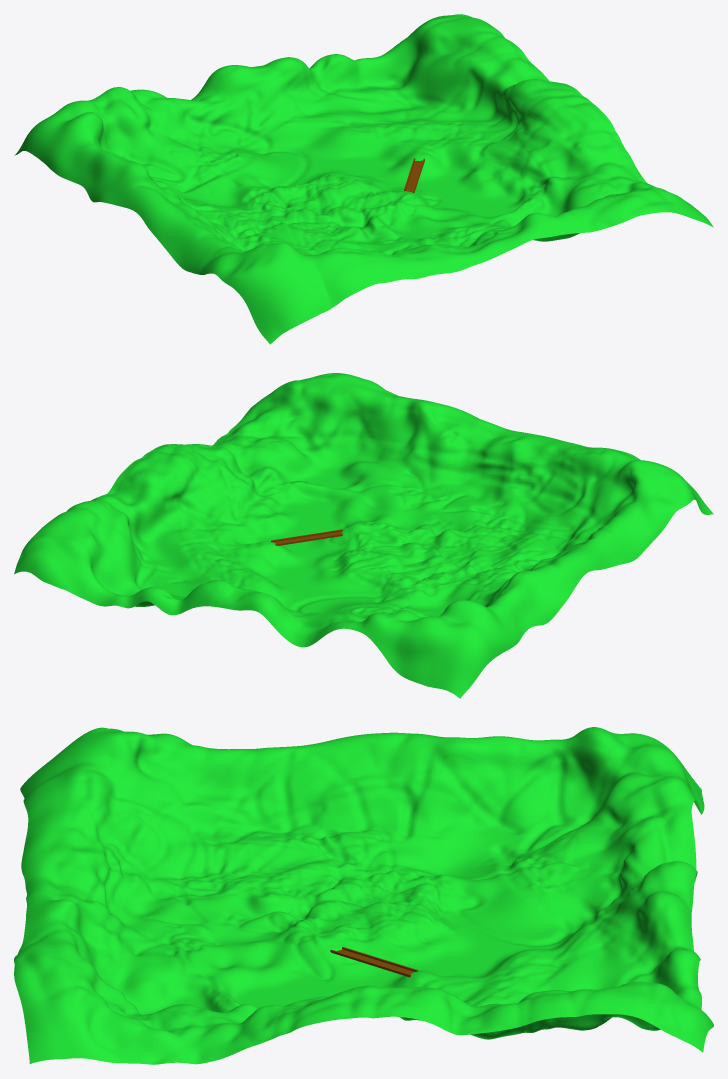
File: terrainbridge.glb
The picture shows the model from 3 angles, top to bottom: view 1: azimuth 30°, elevation 25°; view 2: azimuth 150°, elevation 25°; view 3: azimuth 270°, elevation 25°; orthographic projection. The views are drawn at different scales.
Parts seen in each view (by area): view 1: terrain; view 2: terrain; view 3: terrain, bridge.
Part boxes in pixels (x1,y1,x2,y2): terrain: [14, 14, 713, 344]; terrain: [14, 373, 713, 698]; terrain: [14, 727, 713, 1064]; bridge: [330, 947, 418, 977].
Bounding box in the file's own units: 417 × 63.91 × 420.
